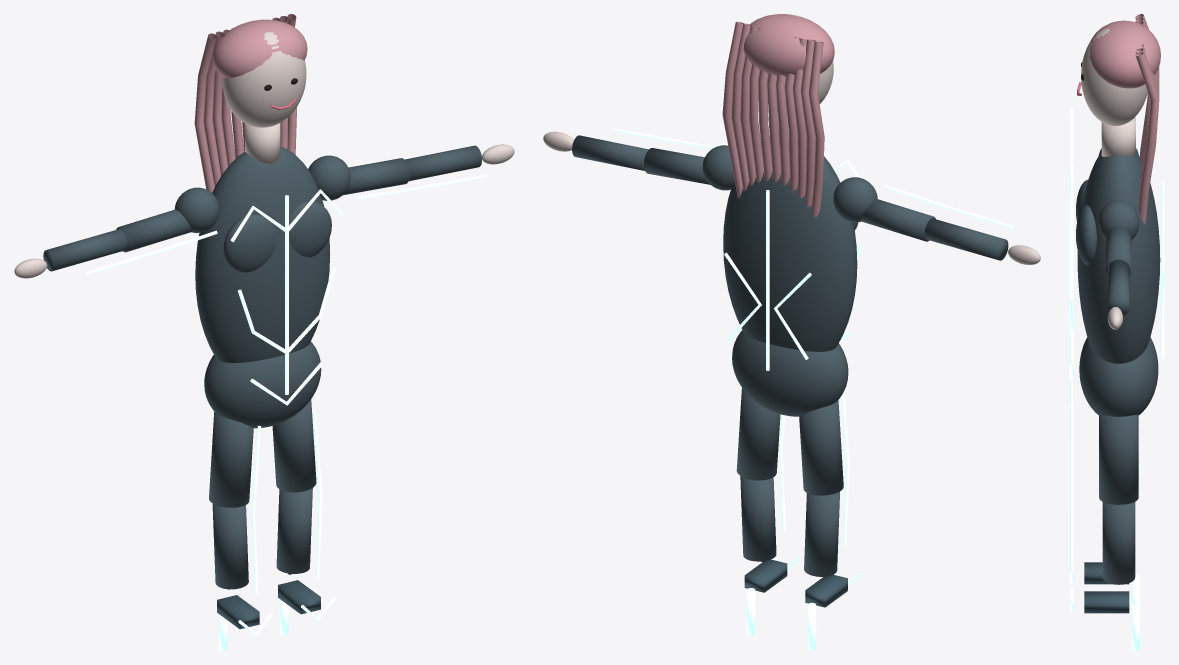
Rendered from sarahmemory_3d_avatar.glb.
The picture shows the model from 3 angles, left to right: view 1: azimuth 30°, elevation 25°; view 2: azimuth 150°, elevation 25°; view 3: azimuth 270°, elevation 25°; orthographic projection. The views are drawn at different scales.
Parts seen in each view (by area): view 1: torso_gloss_suit, pelvis_gloss_suit, head_skin, thigh_L_suit, hair_cap_magenta, thigh_R_suit, calf_L_suit, calf_R_suit, chest_suit_form_L, forearm_L_suit, chest_suit_form_R, upper_arm_L_suit (+13 smaller); view 2: torso_gloss_suit, pelvis_gloss_suit, hair_cap_magenta, thigh_L_suit, thigh_R_suit, calf_R_suit, calf_L_suit, forearm_L_suit, upper_arm_L_suit, magenta_hair_strand_00, forearm_R_suit, upper_arm_R_suit (+15 smaller); view 3: torso_gloss_suit, pelvis_gloss_suit, thigh_R_suit, hair_cap_magenta, calf_R_suit, head_skin, magenta_hair_strand_10, neck_skin, shoulder_R, forearm_R_suit, platform_boot_R, chest_suit_form_R (+15 smaller).
Boxes of the visible parts, x1,y1,x2,y2 form: torso_gloss_suit: (195, 146, 329, 363); pelvis_gloss_suit: (204, 341, 321, 428); head_skin: (222, 32, 306, 127); thigh_L_suit: (209, 412, 253, 507); hair_cap_magenta: (212, 19, 307, 78); thigh_R_suit: (272, 399, 316, 492); calf_L_suit: (212, 504, 248, 589); calf_R_suit: (276, 488, 312, 573); chest_suit_form_L: (223, 215, 276, 272); forearm_L_suit: (43, 229, 127, 271); chest_suit_form_R: (289, 201, 331, 257); upper_arm_L_suit: (116, 209, 191, 252); torso_gloss_suit: (723, 137, 857, 351); pelvis_gloss_suit: (732, 330, 848, 416); hair_cap_magenta: (743, 14, 834, 76); thigh_L_suit: (799, 400, 843, 495); thigh_R_suit: (736, 388, 780, 480); calf_R_suit: (740, 476, 776, 561); calf_L_suit: (804, 491, 839, 576); forearm_L_suit: (924, 218, 1008, 260); upper_arm_L_suit: (860, 199, 935, 241); magenta_hair_strand_00: (808, 41, 824, 217); forearm_R_suit: (572, 135, 648, 170); upper_arm_R_suit: (644, 148, 710, 184); torso_gloss_suit: (1077, 152, 1160, 363); pelvis_gloss_suit: (1079, 337, 1158, 416); thigh_R_suit: (1099, 414, 1138, 504); hair_cap_magenta: (1090, 20, 1160, 88); calf_R_suit: (1102, 502, 1135, 584); head_skin: (1081, 28, 1147, 125); magenta_hair_strand_10: (1135, 52, 1159, 223); neck_skin: (1101, 117, 1135, 156); shoulder_R: (1098, 200, 1139, 239); forearm_R_suit: (1108, 259, 1129, 315); platform_boot_R: (1084, 591, 1129, 613); chest_suit_form_R: (1076, 205, 1096, 265).
Bounding box in the file's own units: 3.27 × 3.89 × 0.552.
